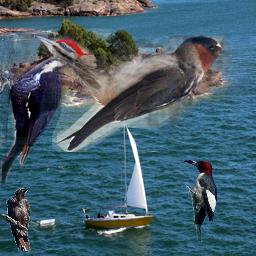Crow: (6, 187, 31, 252)
Swallow: (52, 35, 232, 152)
Woodpecker: (0, 34, 93, 188), (184, 159, 217, 243)
